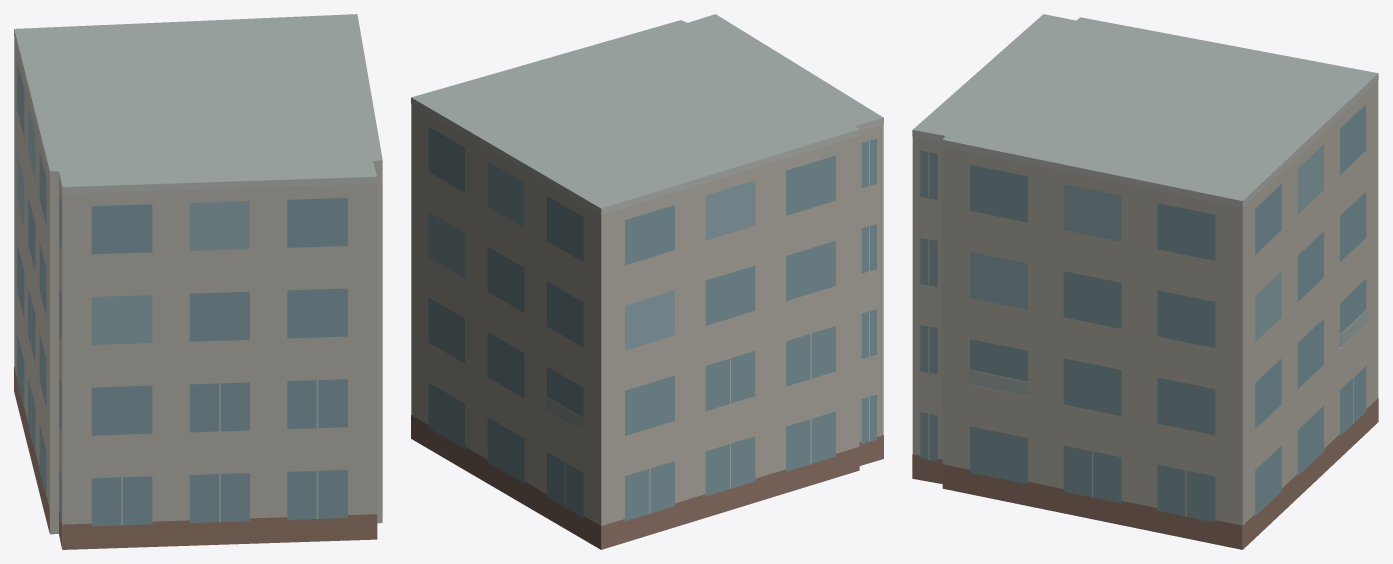
The model's file is survey-upis-32629436.glb.
The picture shows the model from 3 angles, left to right: view 1: azimuth 30°, elevation 25°; view 2: azimuth 150°, elevation 25°; view 3: azimuth 270°, elevation 25°; orthographic projection. The views are drawn at different scales.
Parts seen in each view (by area): view 1: survey-upis-32629436.tmp; view 2: survey-upis-32629436.tmp; view 3: survey-upis-32629436.tmp.
Boxes of the visible parts, left/top/right/bottom form: survey-upis-32629436.tmp: left=14, top=14, right=382, bottom=549; survey-upis-32629436.tmp: left=411, top=14, right=883, bottom=549; survey-upis-32629436.tmp: left=912, top=14, right=1378, bottom=549.
Bounding box in the file's own units: 14.73 × 12.8 × 15.51.
